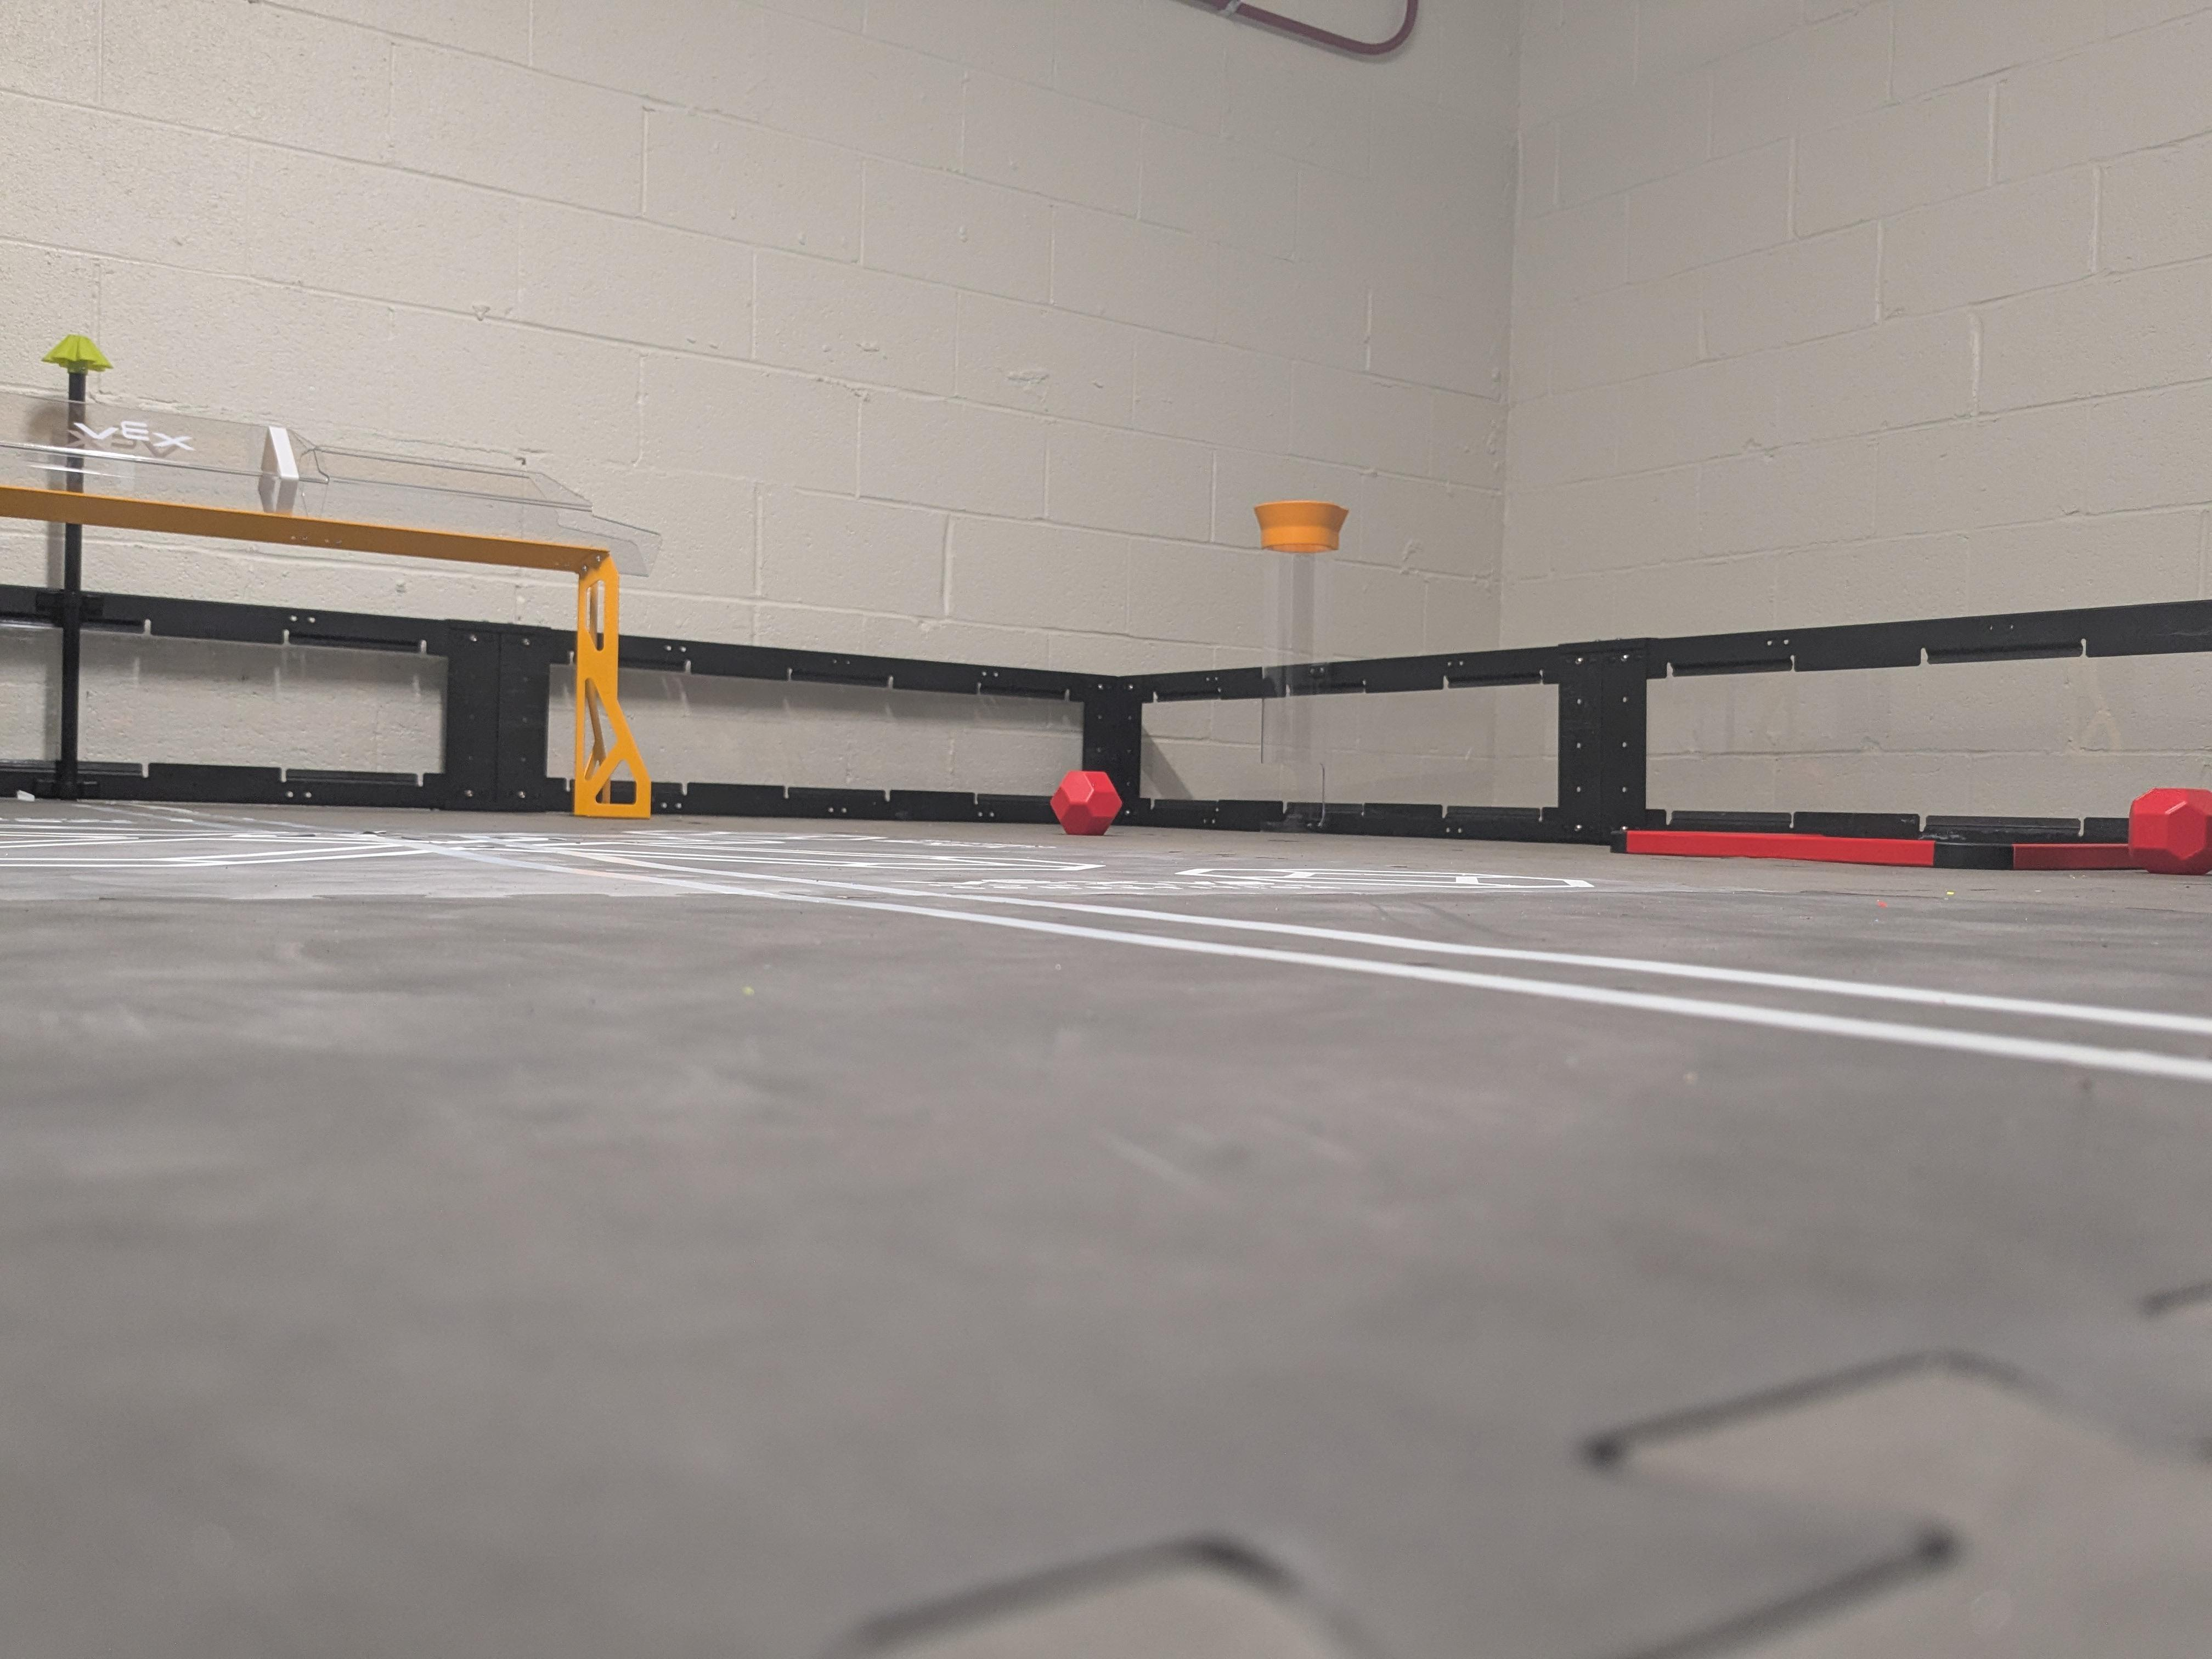Vex-Pieces-RED: (2128, 788, 2212, 875), (1050, 770, 1122, 835)
